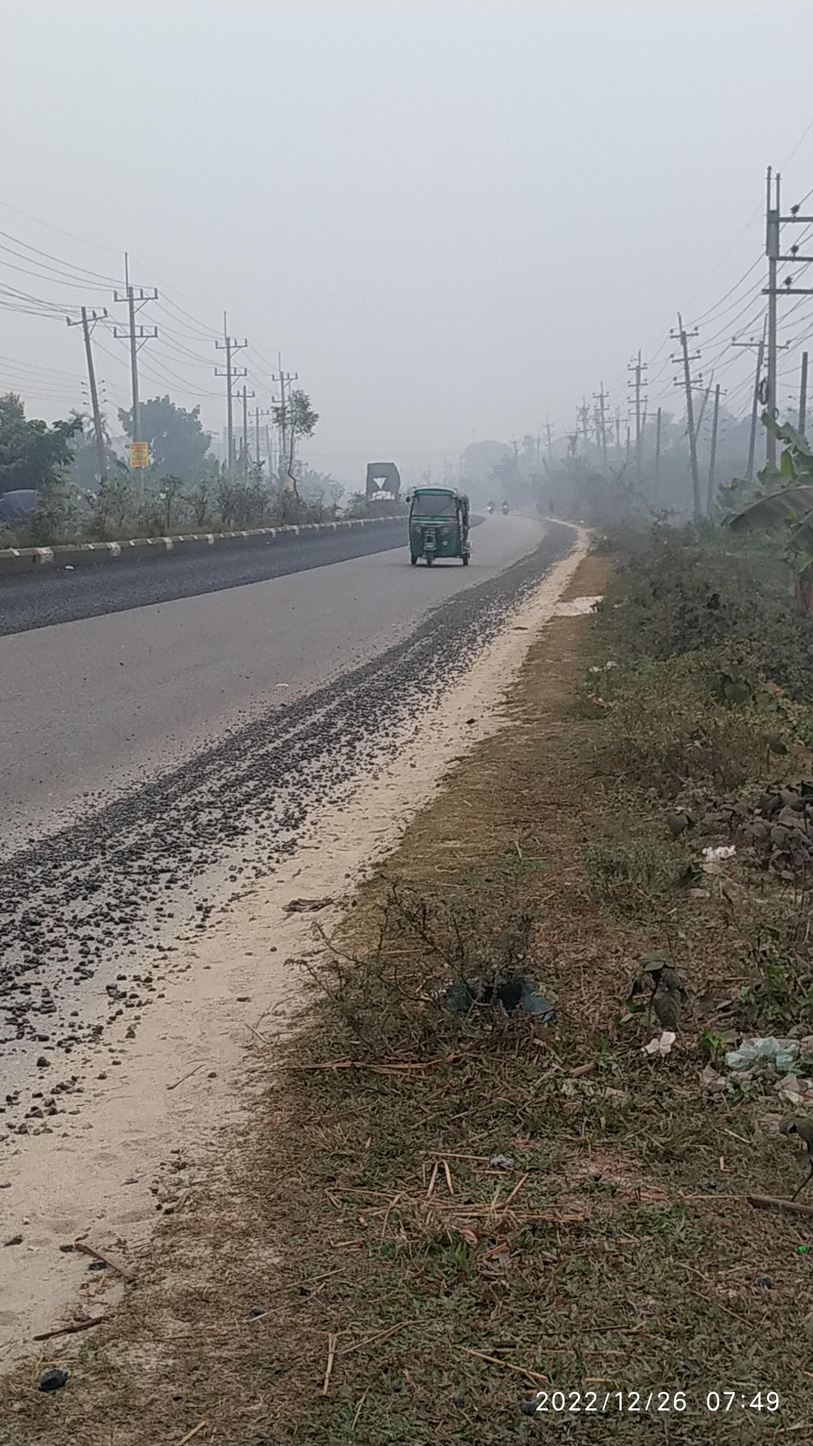Bike: (495, 494, 537, 536)
Truck: (349, 443, 414, 535)
